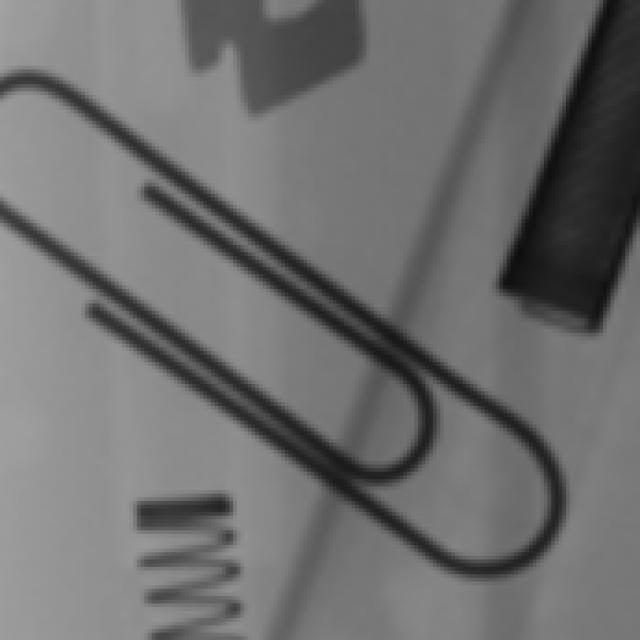BLADE: (193, 1, 395, 159)
